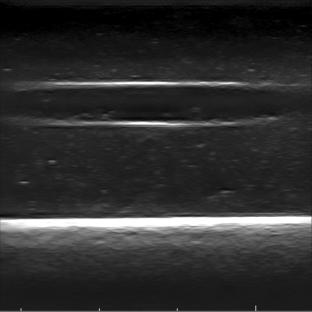vessel: (43, 80, 262, 128)
